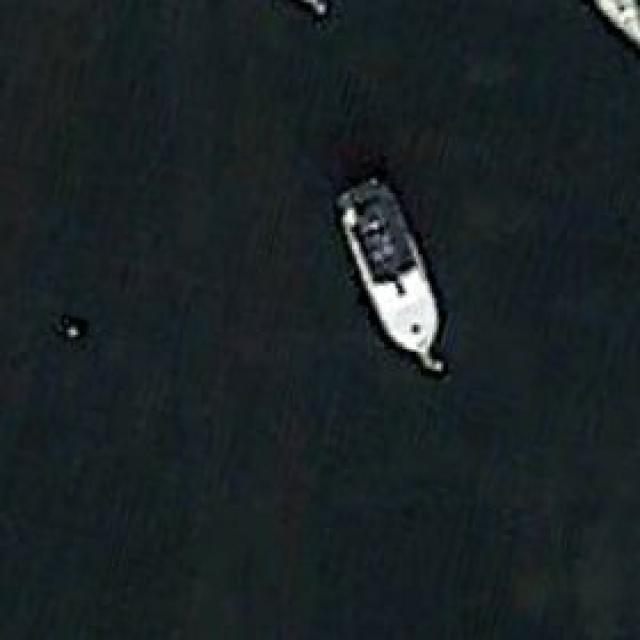ship: (332, 169, 441, 364)
